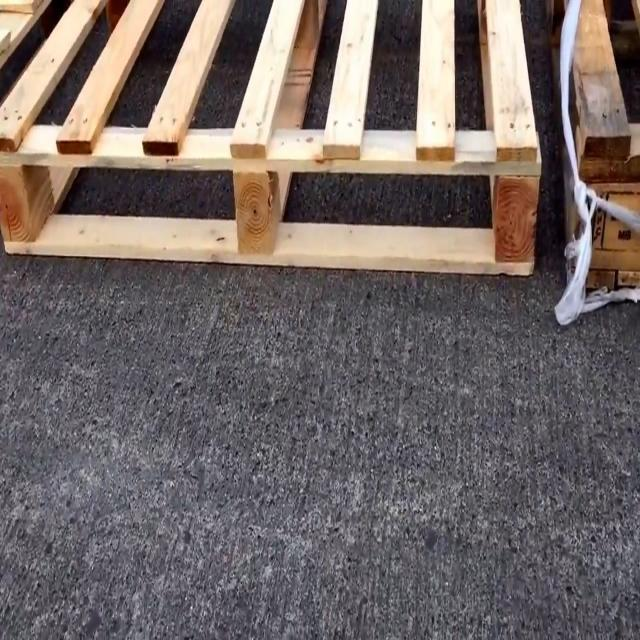Palette: (0, 0, 546, 298), (552, 0, 639, 316)
